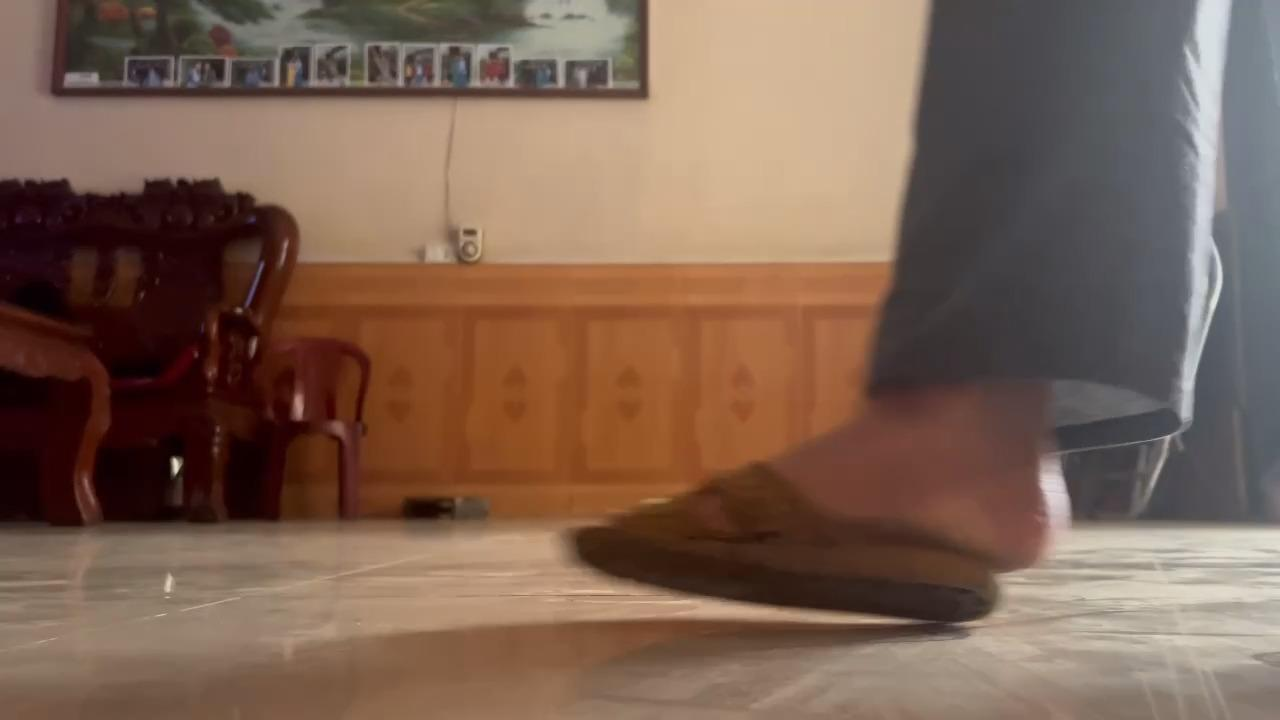no-boot: (551, 419, 1090, 629)
